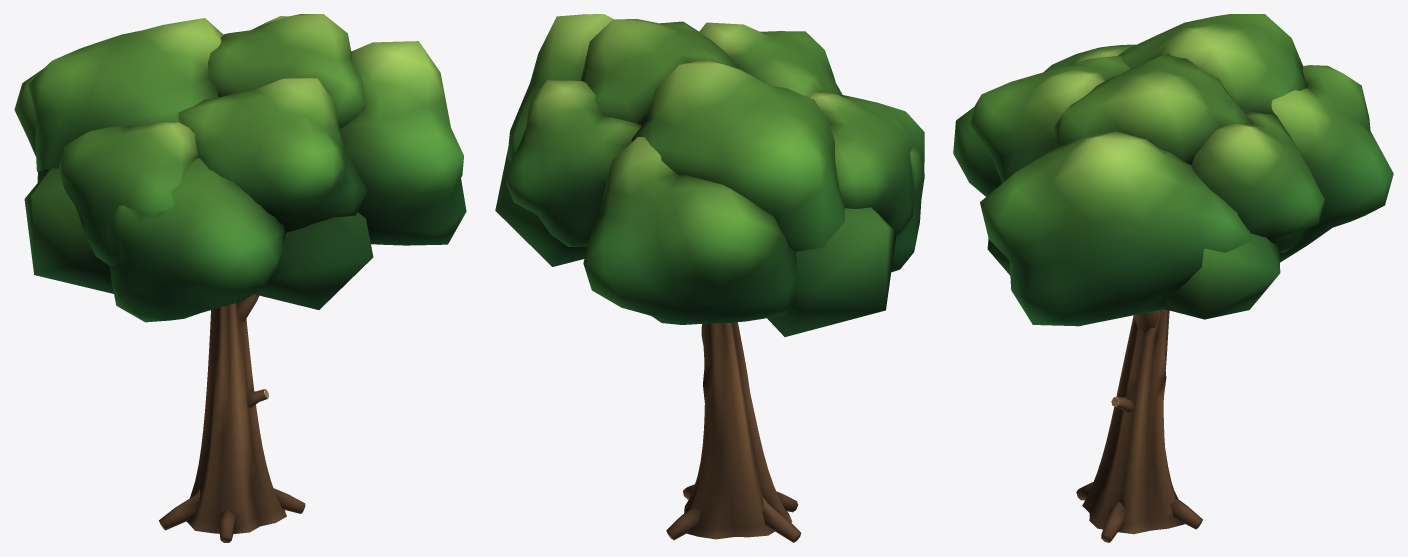
Rendered from tree-standing-c-v1.glb.
3 renders of one model, left to right at view 1: azimuth 30°, elevation 25°; view 2: azimuth 150°, elevation 25°; view 3: azimuth 270°, elevation 25°, orthographic. The views are drawn at different scales.
Visible parts, largest first — view 1: 1_leaves, 0_trunk; view 2: 1_leaves, 0_trunk; view 3: 1_leaves, 0_trunk.
Part boxes in pixels (x1,y1,x2,y2): 1_leaves: (14,14,466,322); 0_trunk: (159,294,305,542); 1_leaves: (495,14,924,336); 0_trunk: (666,322,801,542); 1_leaves: (953,14,1393,326); 0_trunk: (1076,309,1202,542).
Size of the model in its own units: 5.15 by 6.11 by 5.13.
